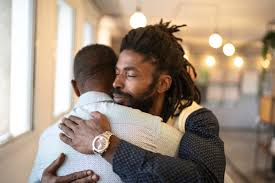black_male: (102, 38, 176, 116)
